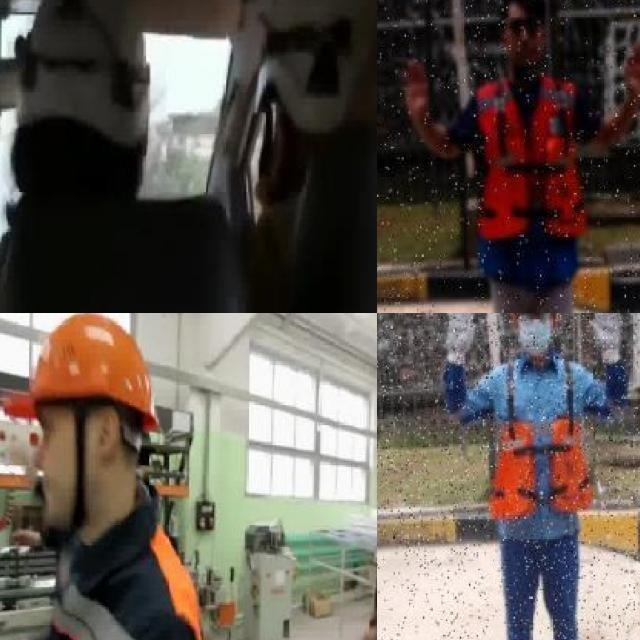apron: (586, 313, 629, 366), (442, 313, 479, 371)
